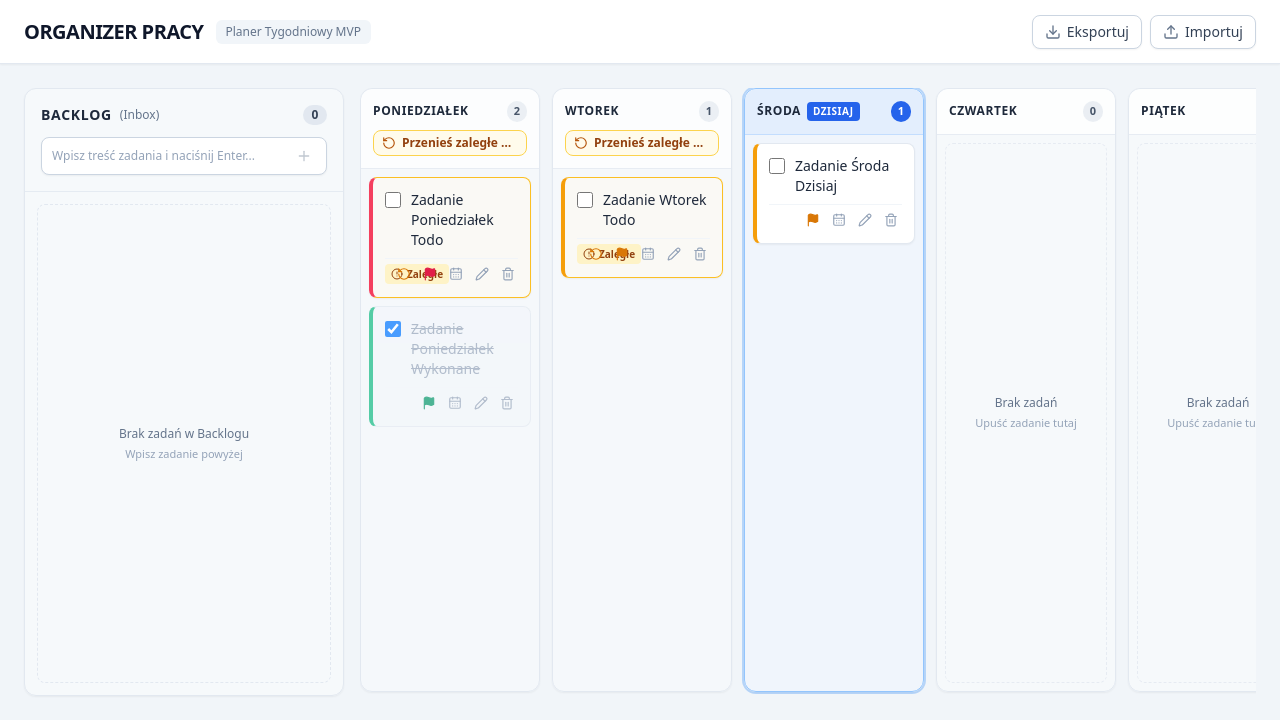
it: App Layout Integration › Overdue tasks integration and backlog restoration › correctly identifies overdue tasks, renders return buttons, and restores them to Backlog individually and in batch
Check: the element with test id "task-overdue-badge" showing "Zaległe" is shown, box [385, 264, 449, 284]
Check: the button with test id "task-return-btn" is shown, box [393, 262, 415, 284]
Click the button with test id "task-return-btn": click(596, 254) [585, 242, 607, 264]
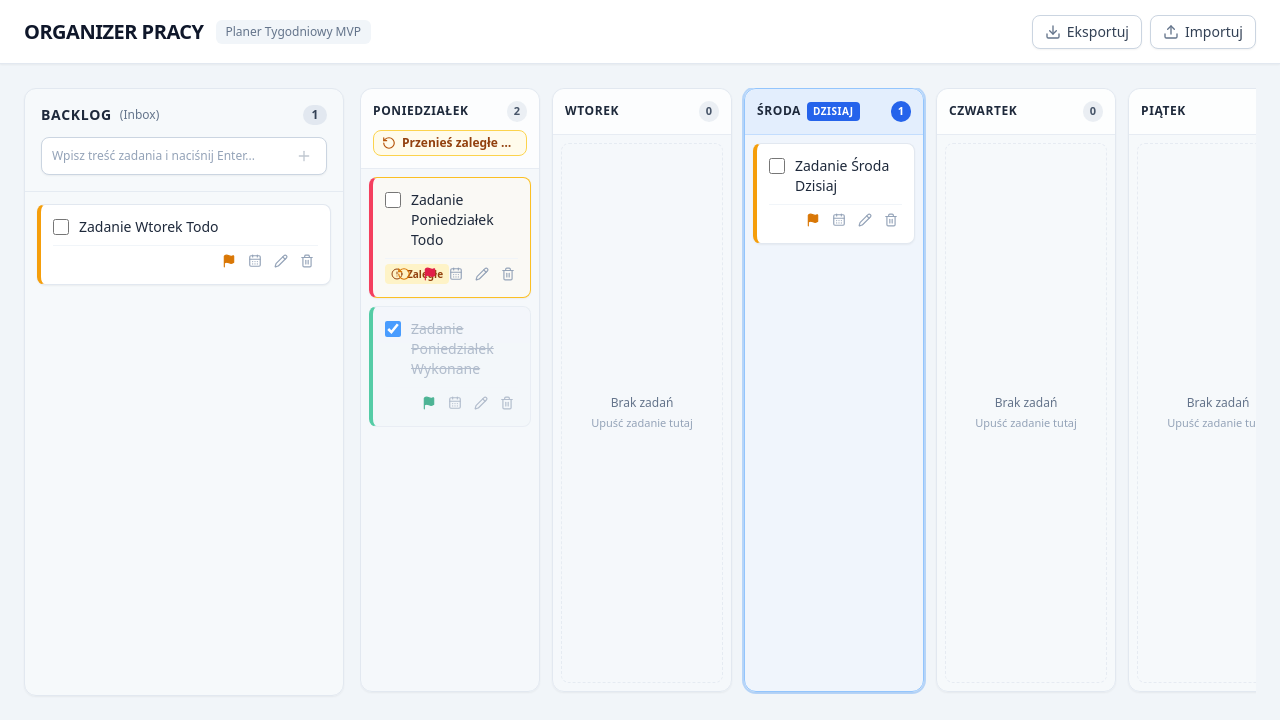
Check: the text with test id "backlog-count" reads "1", box [312, 106, 318, 123]
Check: the text with test id "day-count-tue" reads "0", box [706, 103, 712, 118]
Check: the button with test id "day-return-overdue-btn-tue" is gone
Note: KROK 2: Kliknięcie przycisku zbiorczego w nagłówku poniedziałku
Click the button with test id "day-return-overdue-btn-mon": click(450, 142) [373, 130, 527, 156]
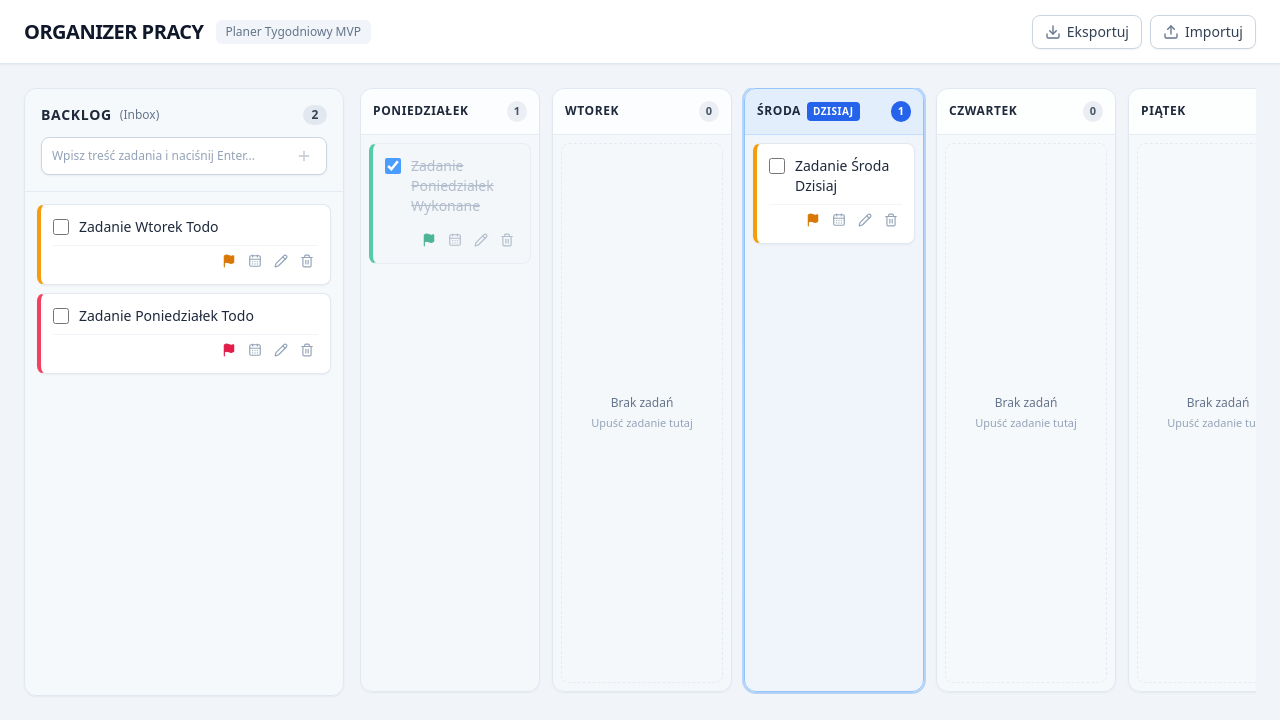
Check: the text with test id "backlog-count" reads "2", box [312, 106, 318, 123]
Check: the text with test id "day-count-mon" reads "1", box [514, 103, 520, 118]
Check: the button with test id "day-return-overdue-btn-mon" is gone
